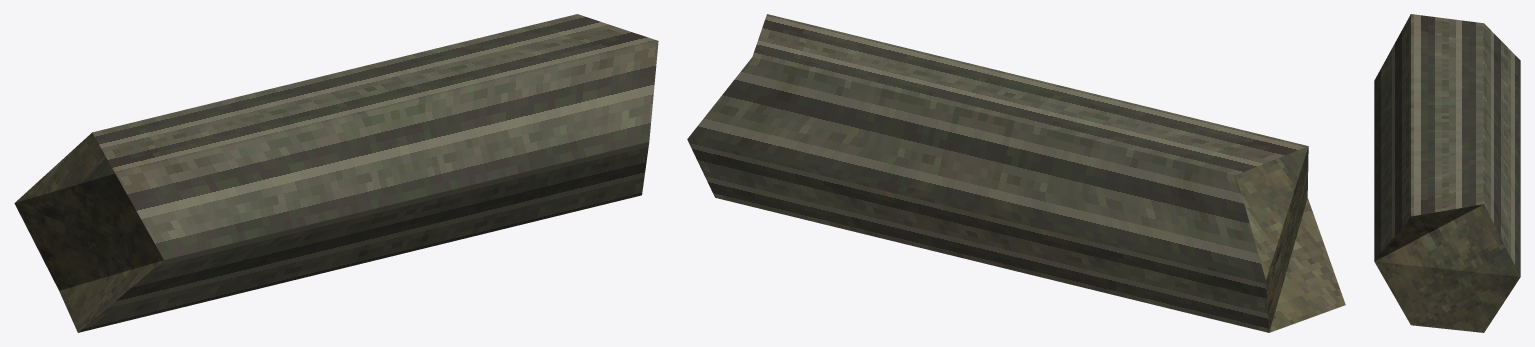
File: pillar_collapsed_02.glb
3 renders of one model, left to right at view 1: azimuth 30°, elevation 25°; view 2: azimuth 150°, elevation 25°; view 3: azimuth 270°, elevation 25°, orthographic. The views are drawn at different scales.
Parts seen in each view (by area): view 1: pillar_collapsed_02; view 2: pillar_collapsed_02; view 3: pillar_collapsed_02.
Part boxes in pixels (left/top/right/bottom): pillar_collapsed_02: left=14, top=14, right=658, bottom=332; pillar_collapsed_02: left=687, top=14, right=1345, bottom=332; pillar_collapsed_02: left=1374, top=14, right=1520, bottom=332.
Size of the model in its own units: 2.84 by 0.6928 by 0.8.
1 material, 1 textured.
